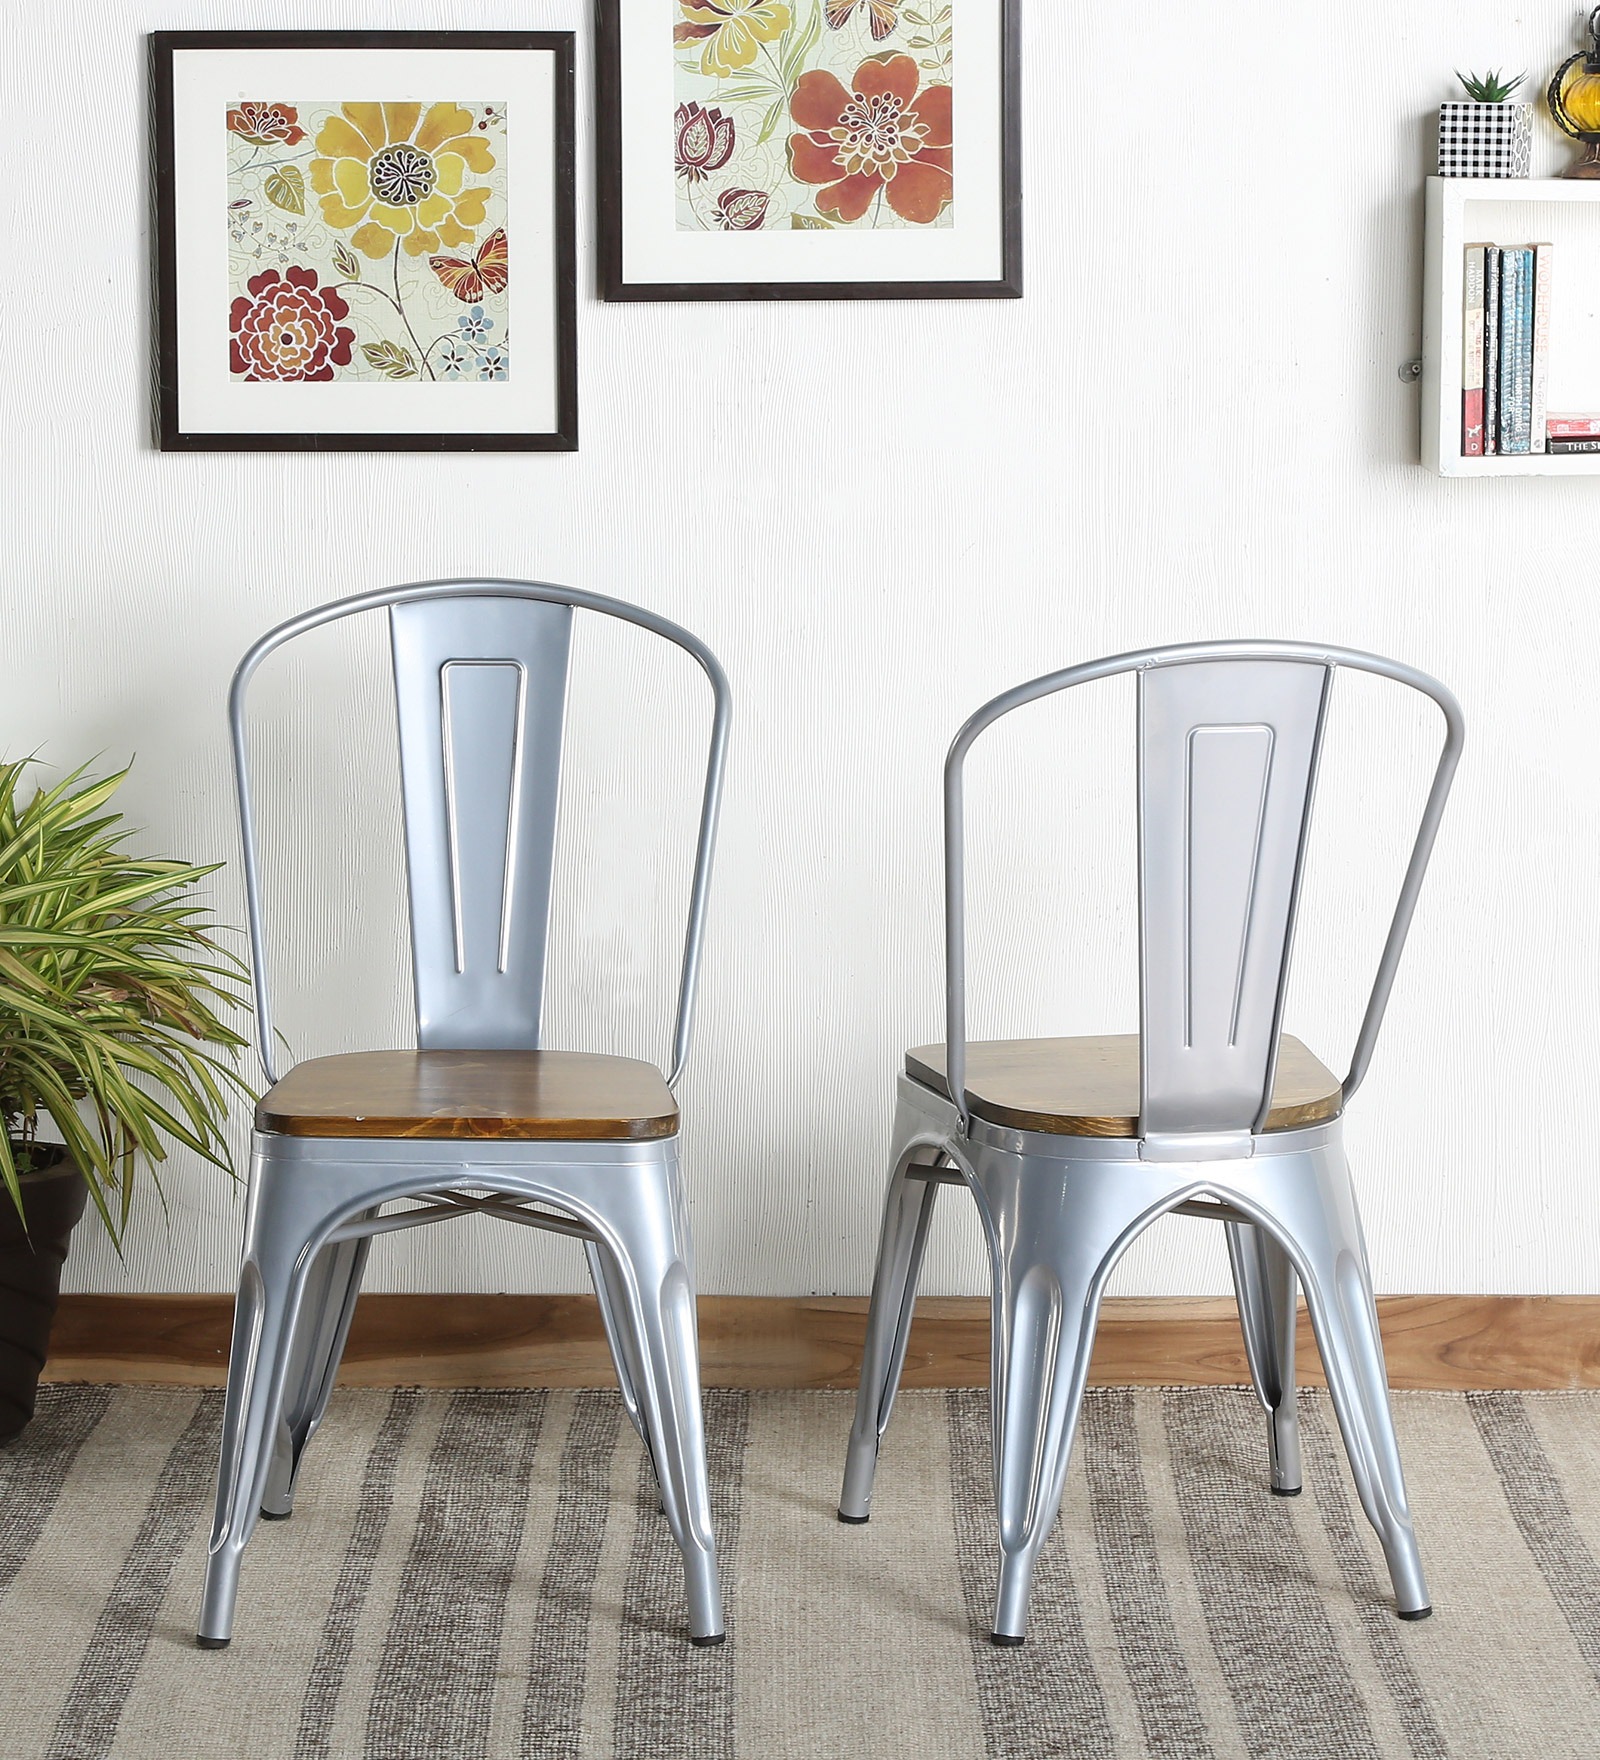Loy Metal Chair (Set of 2) in Silver Colour with Wooden Seat by Bohemiana: (826, 627, 1454, 1650), (208, 573, 752, 1645)
